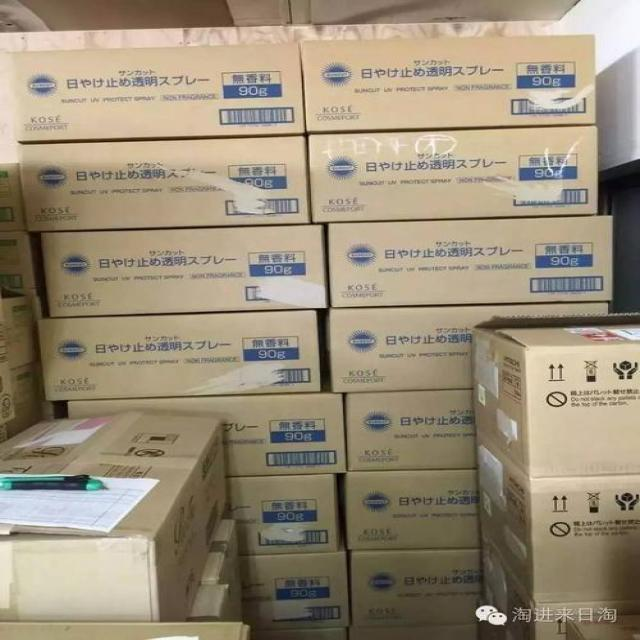box: (0, 409, 229, 639), (296, 125, 610, 226), (288, 29, 608, 126), (4, 43, 312, 139), (325, 214, 623, 313), (468, 307, 640, 476), (31, 226, 325, 324), (470, 433, 640, 601), (12, 146, 317, 231), (34, 314, 326, 398), (64, 404, 352, 482), (332, 385, 492, 475), (313, 310, 491, 390), (336, 461, 479, 555), (348, 543, 495, 625), (226, 548, 357, 632), (229, 470, 352, 557)
